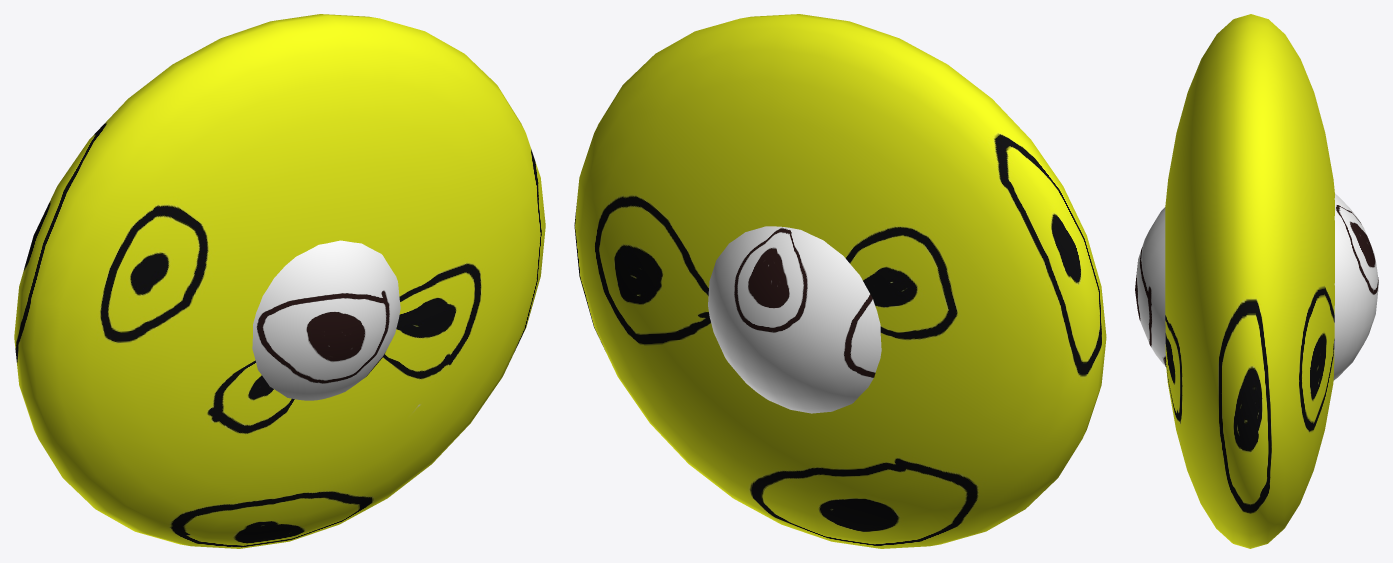
Rendered from koin.fbx.
3 renders of one model, left to right at view 1: azimuth 30°, elevation 25°; view 2: azimuth 150°, elevation 25°; view 3: azimuth 270°, elevation 25°, orthographic. The views are drawn at different scales.
Visible parts, largest first — view 1: Sphere001, Sphere002; view 2: Sphere001, Sphere002; view 3: Sphere001, Sphere002.
Boxes of the visible parts, x1,y1,x2,y2 form: Sphere001: (14, 14, 545, 548); Sphere002: (252, 240, 400, 400); Sphere001: (574, 14, 1106, 548); Sphere002: (708, 226, 881, 413); Sphere001: (1165, 14, 1334, 548); Sphere002: (1135, 193, 1378, 380).
Size of the model in its own units: 21.55 by 9.35 by 20.33.
Materials: 2 (2 with a texture image).
